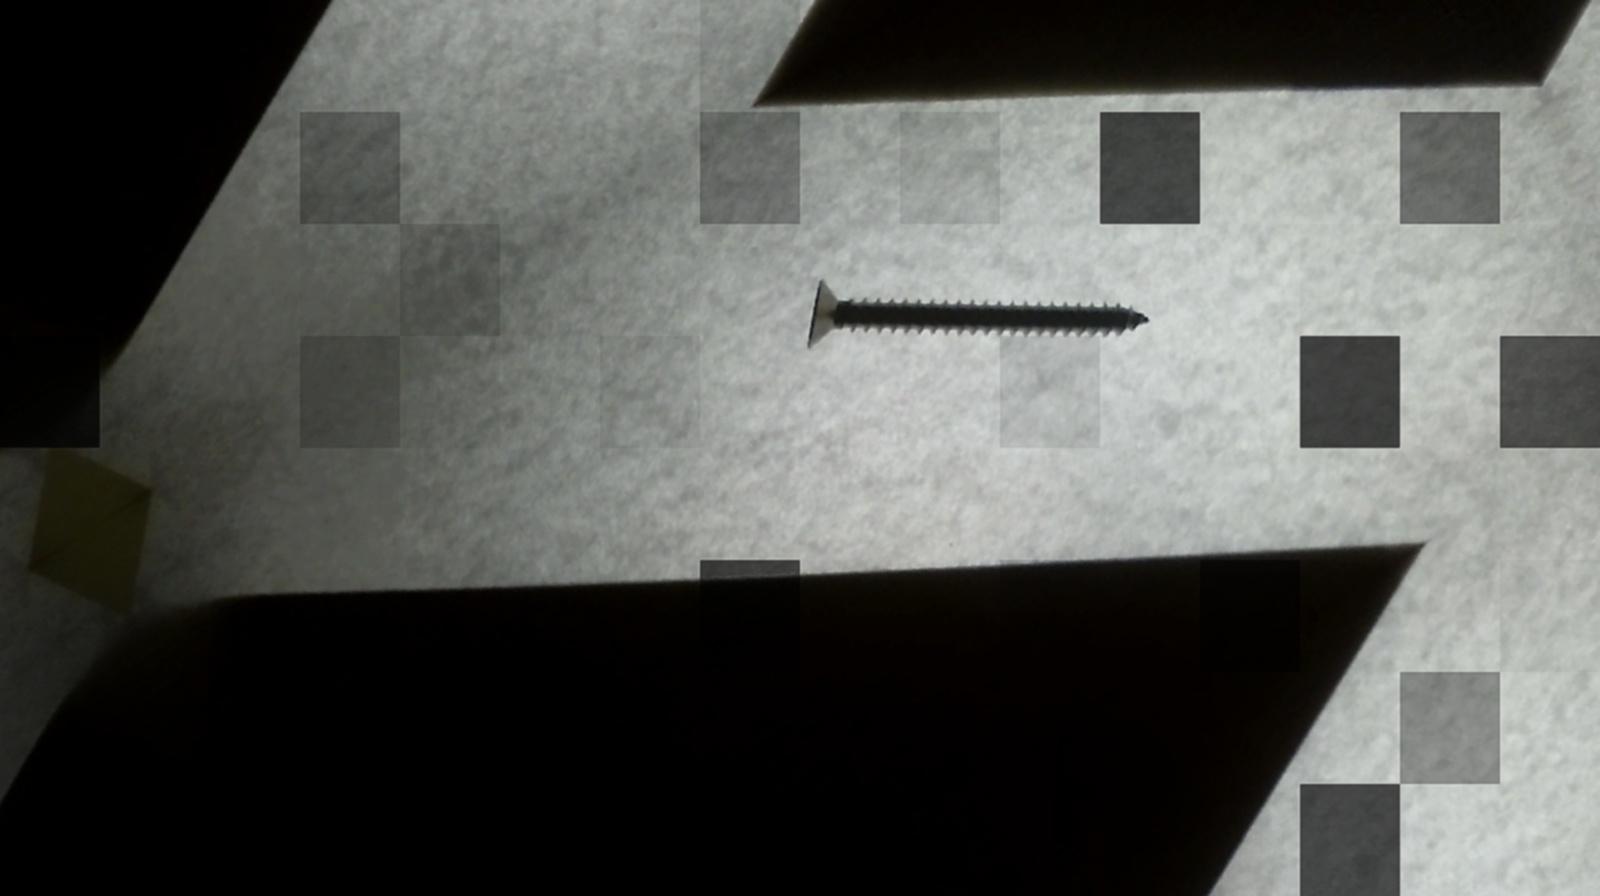S002: (768, 102, 1168, 512)
